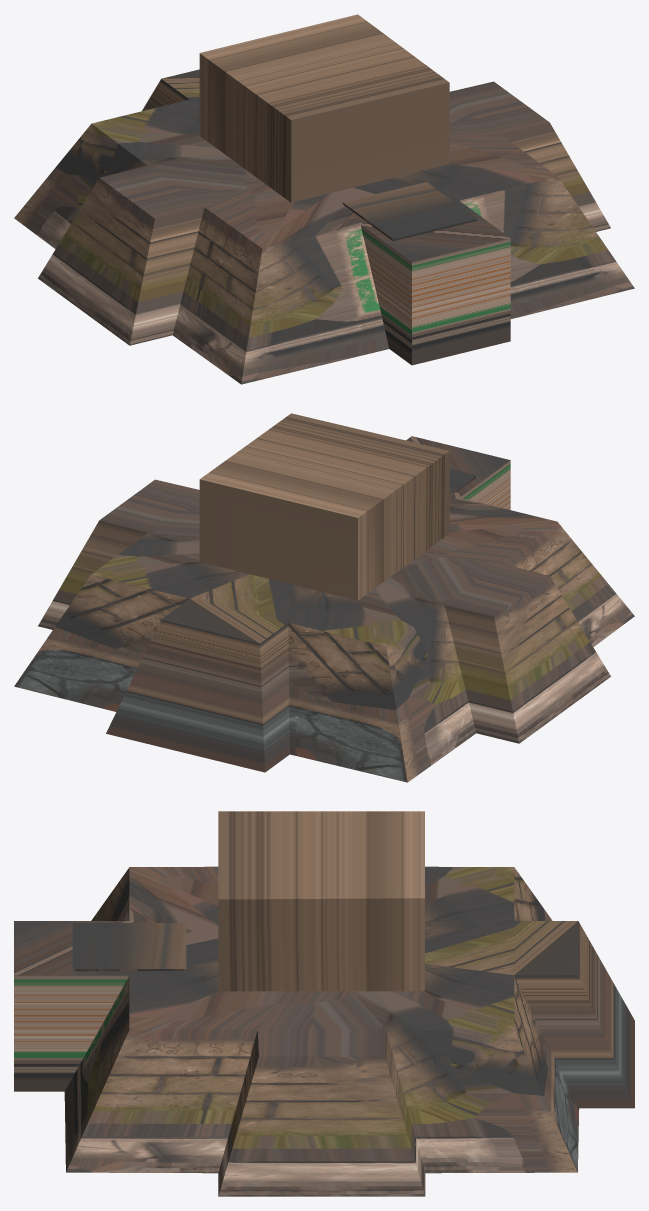
Rendered from sb_obj_ruins000_Altar_col.fbx.
3 views of the same model, one above another, from view 1: azimuth 30°, elevation 25°; view 2: azimuth 150°, elevation 25°; view 3: azimuth 270°, elevation 25° (orthographic). The views are drawn at different scales.
Parts seen in each view (by area): view 1: sb_obj_ruins000_Altar_col; view 2: sb_obj_ruins000_Altar_col; view 3: sb_obj_ruins000_Altar_col.
Boxes of the visible parts, x1,y1,x2,y2 form: sb_obj_ruins000_Altar_col: (14, 14, 634, 384); sb_obj_ruins000_Altar_col: (14, 413, 634, 782); sb_obj_ruins000_Altar_col: (14, 811, 634, 1196).
Size of the model in its own units: 4.88 by 1.8 by 4.84.
